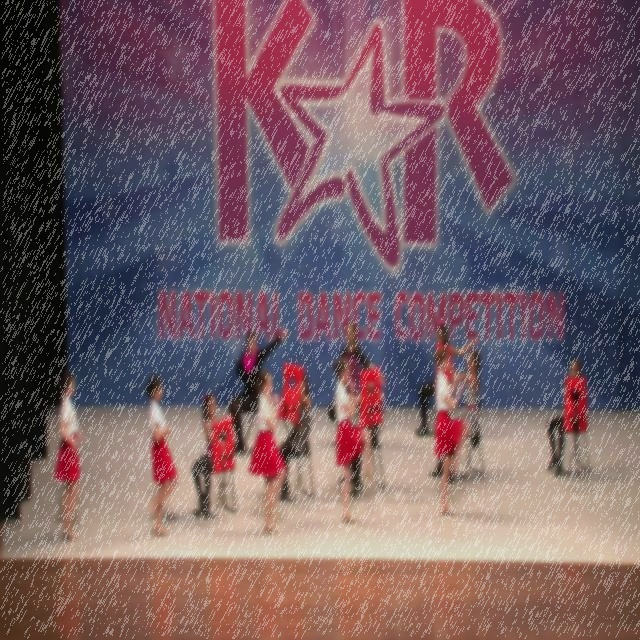pessoa: (332, 356, 382, 526), (226, 326, 290, 455), (414, 316, 479, 440), (428, 346, 482, 484), (248, 367, 288, 535), (433, 346, 471, 518), (327, 319, 382, 427), (144, 372, 178, 540), (546, 354, 588, 480), (51, 369, 81, 543), (278, 362, 312, 504), (350, 365, 384, 498), (191, 392, 223, 521)
